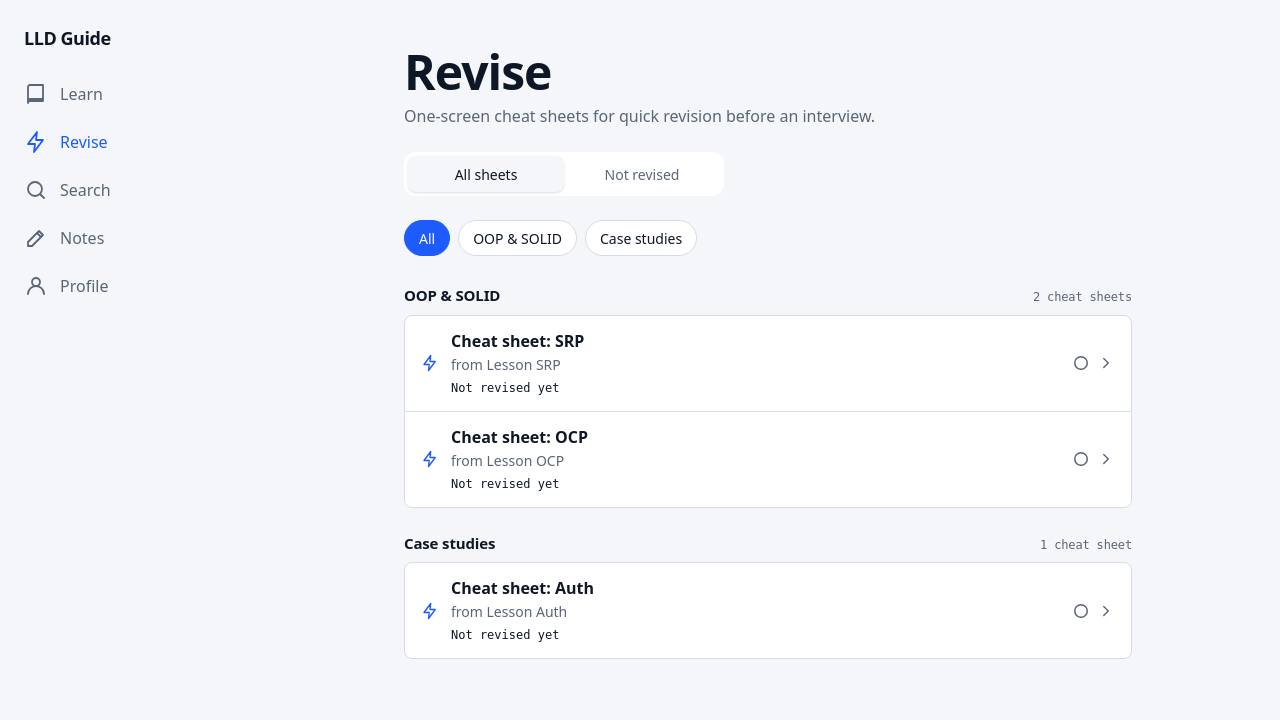
Test: Revise › filters by module with chips, keeping the filter in the URL
This screenshot has width=1280, height=720.
Click the button "Case studies".
click(641, 238)  # box [585, 220, 697, 256]
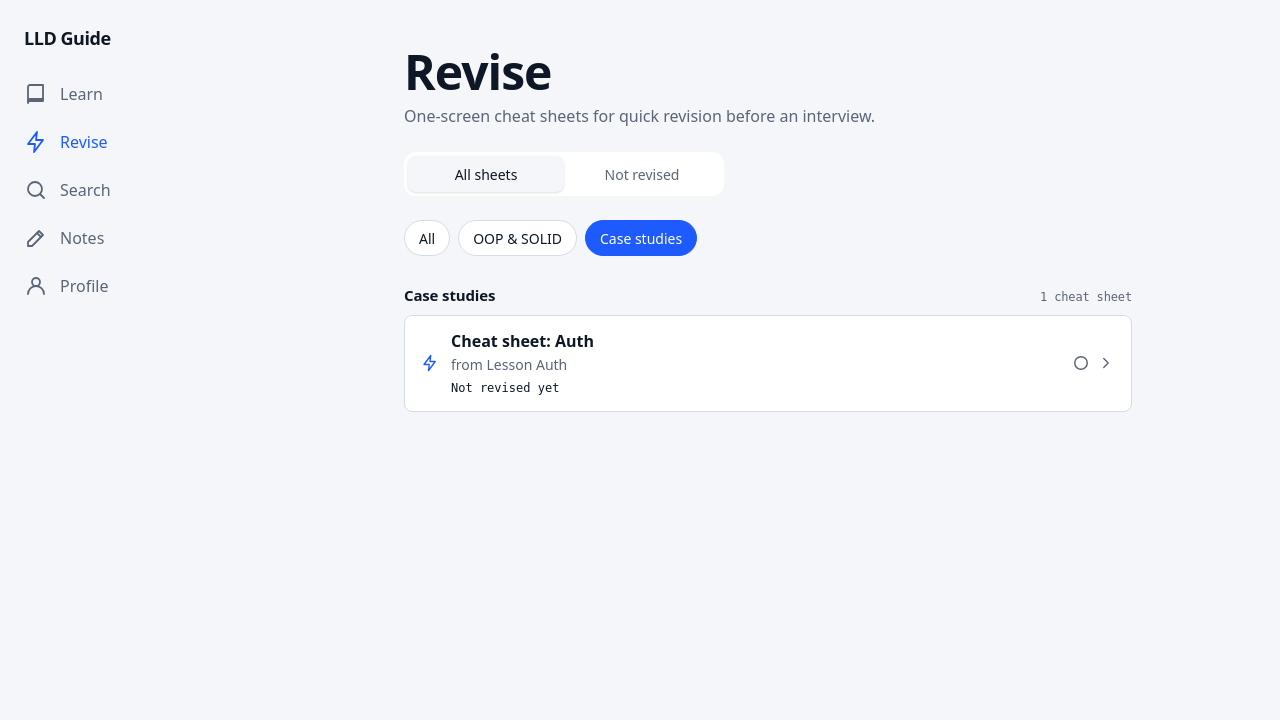
Check: the button "Case studies" is pressed, box [585, 220, 697, 256]
Click the button "All".
click(427, 238)  # box [404, 220, 450, 256]
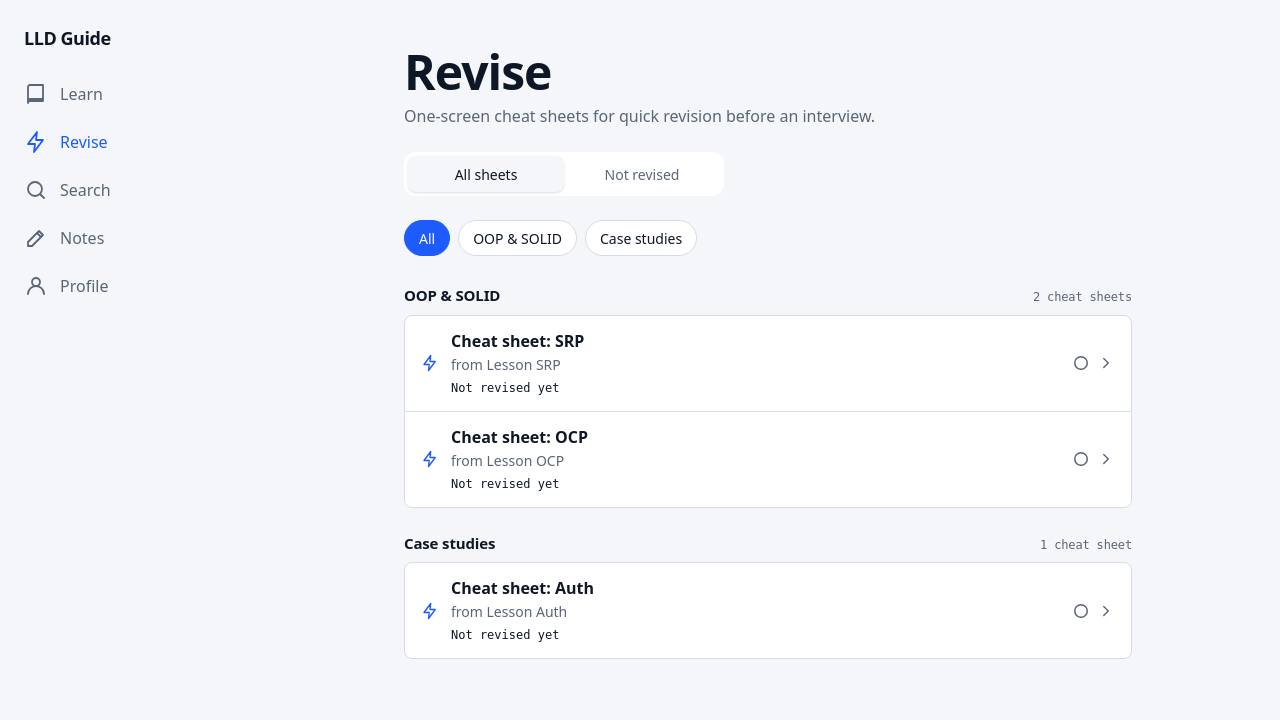
Check: the element "OOP & SOLID" is shown, box [404, 284, 1132, 508]
